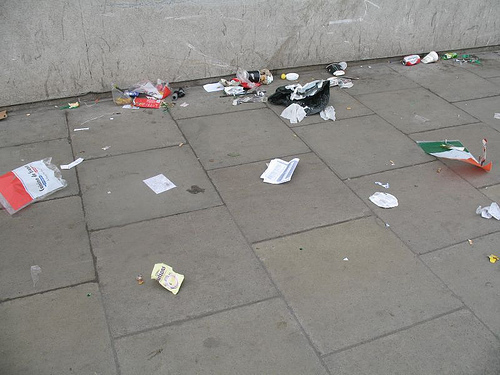litter: (0, 157, 68, 217), (415, 137, 491, 174), (273, 81, 336, 124), (204, 68, 271, 106), (107, 79, 188, 109), (262, 158, 300, 185), (151, 263, 183, 295), (143, 174, 175, 196), (368, 192, 398, 211), (474, 201, 500, 221), (418, 51, 440, 66), (456, 54, 482, 66), (330, 77, 353, 89), (401, 54, 420, 68), (325, 61, 347, 73), (436, 48, 457, 59), (278, 70, 299, 79), (486, 251, 500, 263), (67, 156, 81, 168), (62, 101, 77, 109), (0, 109, 5, 122)
